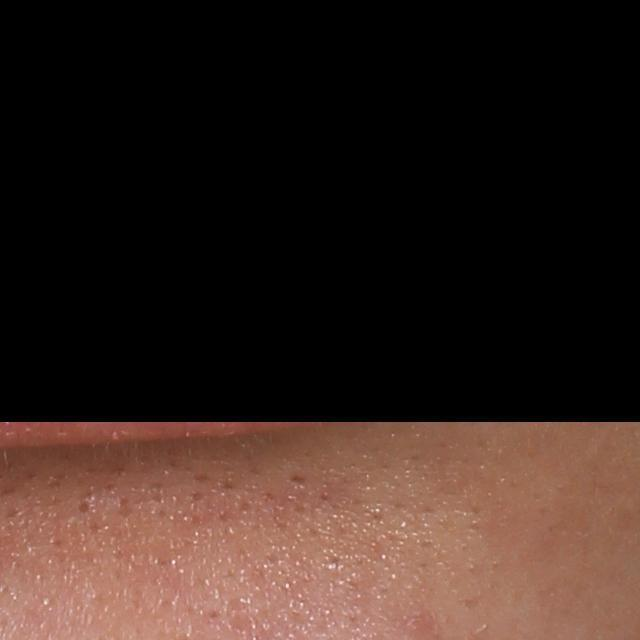atrophic_scar: (287, 473, 305, 484)
comedo: (74, 499, 91, 517)
